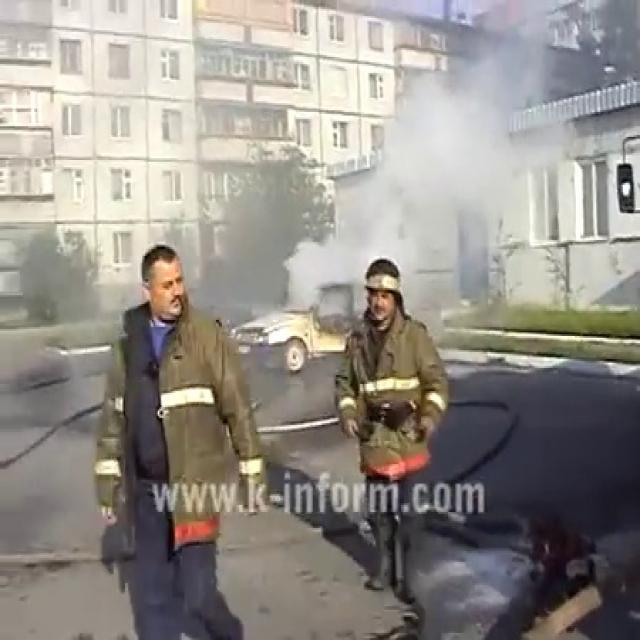Smoke: (303, 1, 582, 310)
